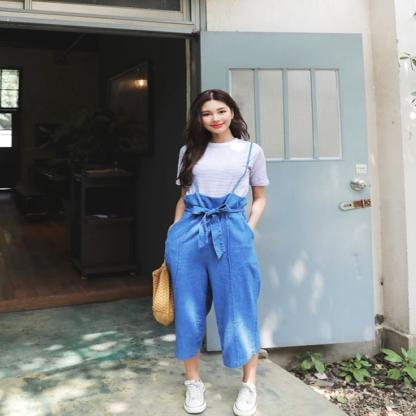dress: (160, 133, 270, 368)
jean: (151, 85, 284, 416)
